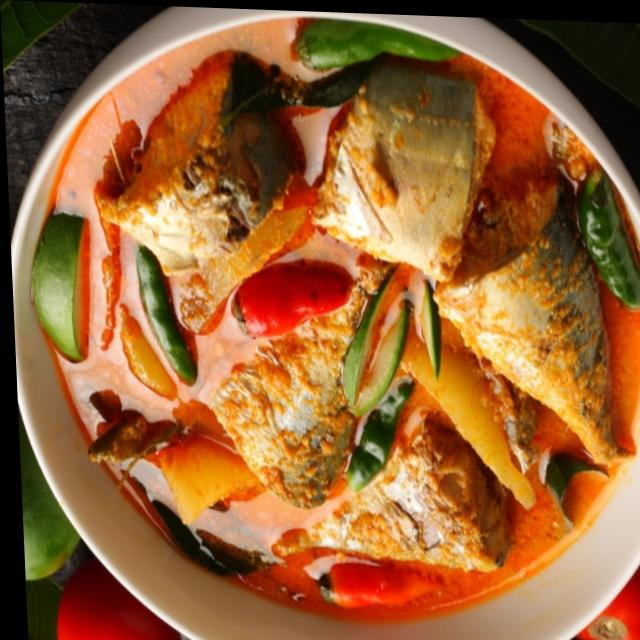FISH CURRY: (95, 55, 630, 570)
